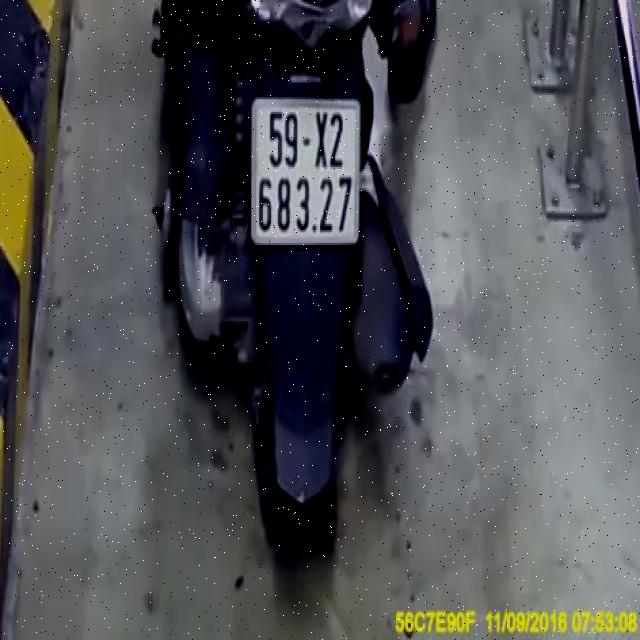2: (329, 111, 345, 170), (319, 176, 333, 232)
3: (297, 176, 309, 232)
5: (268, 111, 283, 167)
6: (259, 176, 272, 233)
7: (337, 177, 353, 230)
8: (277, 177, 290, 230)
9: (284, 111, 298, 168)
X: (314, 112, 328, 168)
